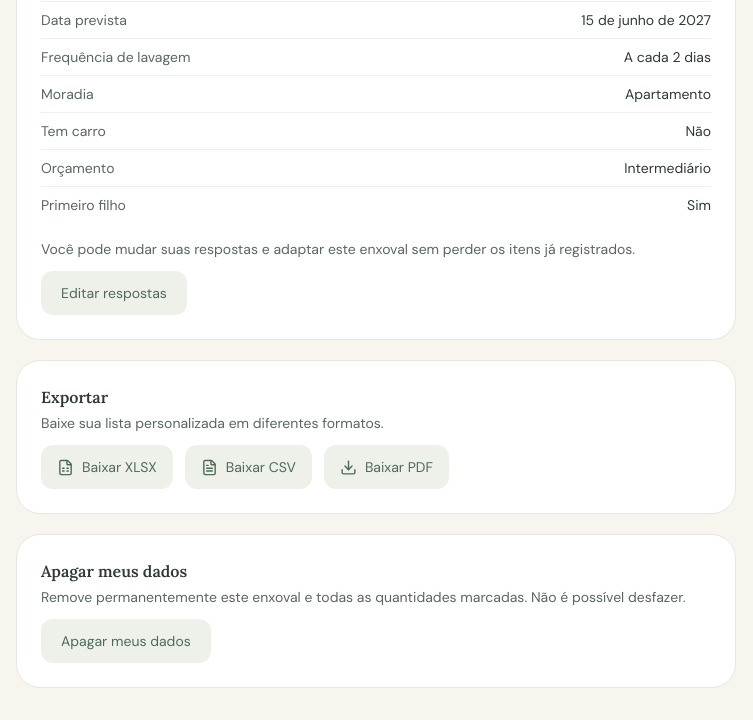
it: Ajustes › mostra erro da API ao falhar ao apagar
(page scrolled)
What coordinates should you click on to do the following:
click the button "Apagar meus dados"
I would click on:
 (126, 641)
Its box is top-left (41, 619), bottom-right (211, 663).
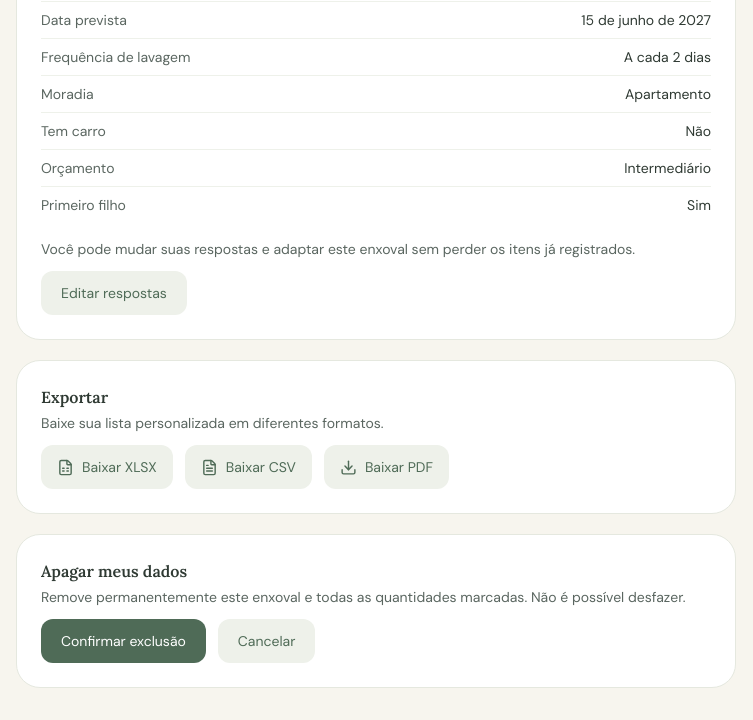
What coordinates should you click on to do the following:
click the button "Confirmar exclusão"
I would click on:
 (123, 641)
Its box is top-left (41, 619), bottom-right (206, 663).
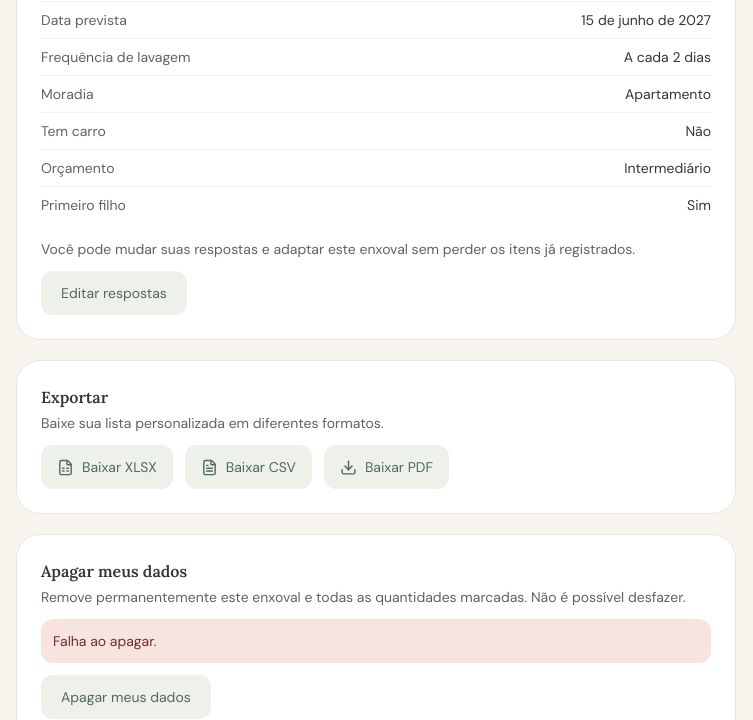
Check: the message reads "Falha ao apagar.", box top-left (53, 632), bottom-right (157, 650)
